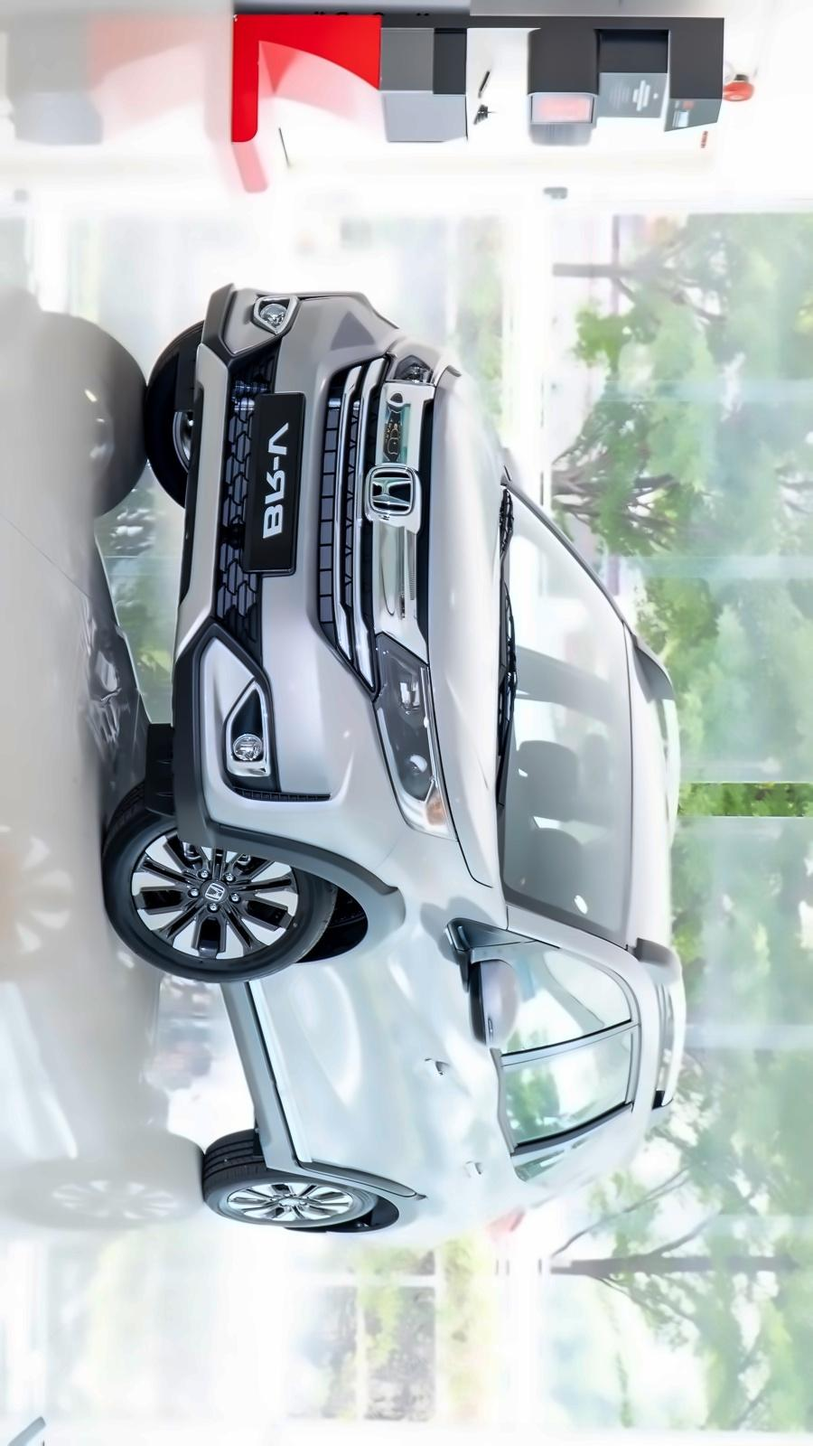Car hood: (418, 355, 515, 893)
Front bumper: (167, 276, 392, 883)
Headlight - -L-: (366, 626, 460, 841)
Headlight - -R-: (380, 343, 470, 393)
Passenger-s door - -F-L-: (208, 895, 675, 1092)
Passenger-s door - -R-L-: (236, 1024, 691, 1210)
Side bumper - -L-: (183, 970, 354, 1178)
Side mirror - -L-: (443, 915, 529, 1050)
